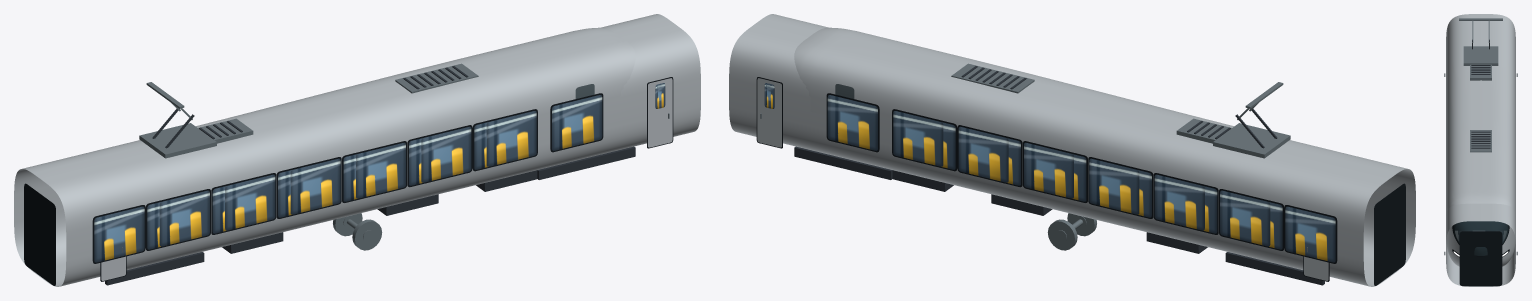
Rendered from laview.glb.
3 renders of one model, left to right at view 1: azimuth 30°, elevation 25°; view 2: azimuth 150°, elevation 25°; view 3: azimuth 270°, elevation 25°, orthographic. The views are drawn at different scales.
Visible parts, largest first — view 1: cab-shell__CAB_PAINT, car-shell__CAB_PAINT, body__PASSENGER_GLASS.001, body__RUBBER.001, body__RUBBER, body__PASSENGER_GLASS, pantograph__STAINLESS, body__MACHINERY, body__STAINLESS.001, body__CAB_PAINT.001, wheel-axle, body__MACHINERY.001 (+3 smaller); view 2: cab-shell__CAB_PAINT, car-shell__CAB_PAINT, body__PASSENGER_GLASS.001, body__RUBBER.001, body__PASSENGER_GLASS, body__RUBBER, pantograph__STAINLESS, body__MACHINERY, body__STAINLESS.001, body__CAB_PAINT.001, wheel-axle, body__MACHINERY.001 (+3 smaller); view 3: cab-shell__CAB_PAINT, car-shell__CAB_PAINT, body__RUBBER.001, pantograph__STAINLESS, cab-window-glazing__CAB_GLASS, body__STAINLESS.001, body__CAB_CONSOLE, body__MACHINERY.001, cab-window-gasket__RUBBER, body__MACHINERY.
Part boxes in pixels (<box>): cab-shell__CAB_PAINT: <box>14,27,635,286</box>; car-shell__CAB_PAINT: <box>14,14,700,283</box>; body__PASSENGER_GLASS.001: <box>94,83,665,262</box>; body__RUBBER.001: <box>24,77,673,285</box>; body__RUBBER: <box>24,120,487,285</box>; body__PASSENGER_GLASS: <box>147,122,488,249</box>; pantograph__STAINLESS: <box>139,82,216,158</box>; body__MACHINERY: <box>105,125,635,285</box>; body__STAINLESS.001: <box>198,63,669,139</box>; body__CAB_PAINT.001: <box>648,78,672,147</box>; wheel-axle: <box>333,213,382,250</box>; body__MACHINERY.001: <box>126,66,635,271</box>; cab-shell__CAB_PAINT: <box>794,27,1415,286</box>; car-shell__CAB_PAINT: <box>729,14,1415,283</box>; body__PASSENGER_GLASS.001: <box>764,83,1335,262</box>; body__RUBBER.001: <box>756,77,1405,285</box>; body__PASSENGER_GLASS: <box>941,122,1282,249</box>; body__RUBBER: <box>942,120,1405,285</box>; pantograph__STAINLESS: <box>1213,82,1290,158</box>; body__MACHINERY: <box>794,125,1324,285</box>; body__STAINLESS.001: <box>760,63,1231,139</box>; body__CAB_PAINT.001: <box>757,78,781,147</box>; wheel-axle: <box>1047,213,1096,250</box>; body__MACHINERY.001: <box>794,66,1303,271</box>; cab-shell__CAB_PAINT: <box>1446,15,1515,266</box>; car-shell__CAB_PAINT: <box>1446,14,1515,286</box>; body__RUBBER.001: <box>1459,231,1502,286</box>; pantograph__STAINLESS: <box>1459,18,1502,65</box>; cab-window-glazing__CAB_GLASS: <box>1453,221,1508,255</box>; body__STAINLESS.001: <box>1444,64,1517,255</box>; body__CAB_CONSOLE: <box>1455,221,1506,241</box>; body__MACHINERY.001: <box>1471,65,1490,148</box>; cab-window-gasket__RUBBER: <box>1452,224,1509,256</box>; body__MACHINERY: <box>1471,67,1490,72</box>.
Size of the model in its own units: 20.05 by 5.86 by 2.98.
9 materials, 1 textured.
